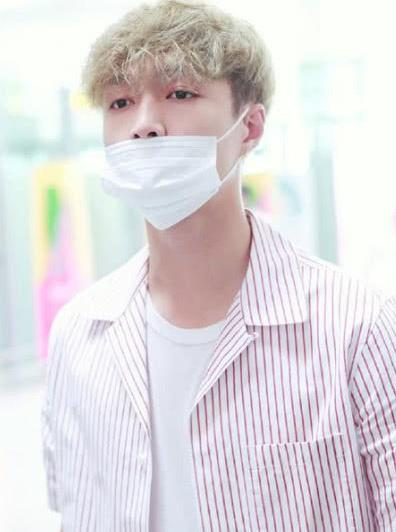WRONG: (101, 57, 234, 227)
